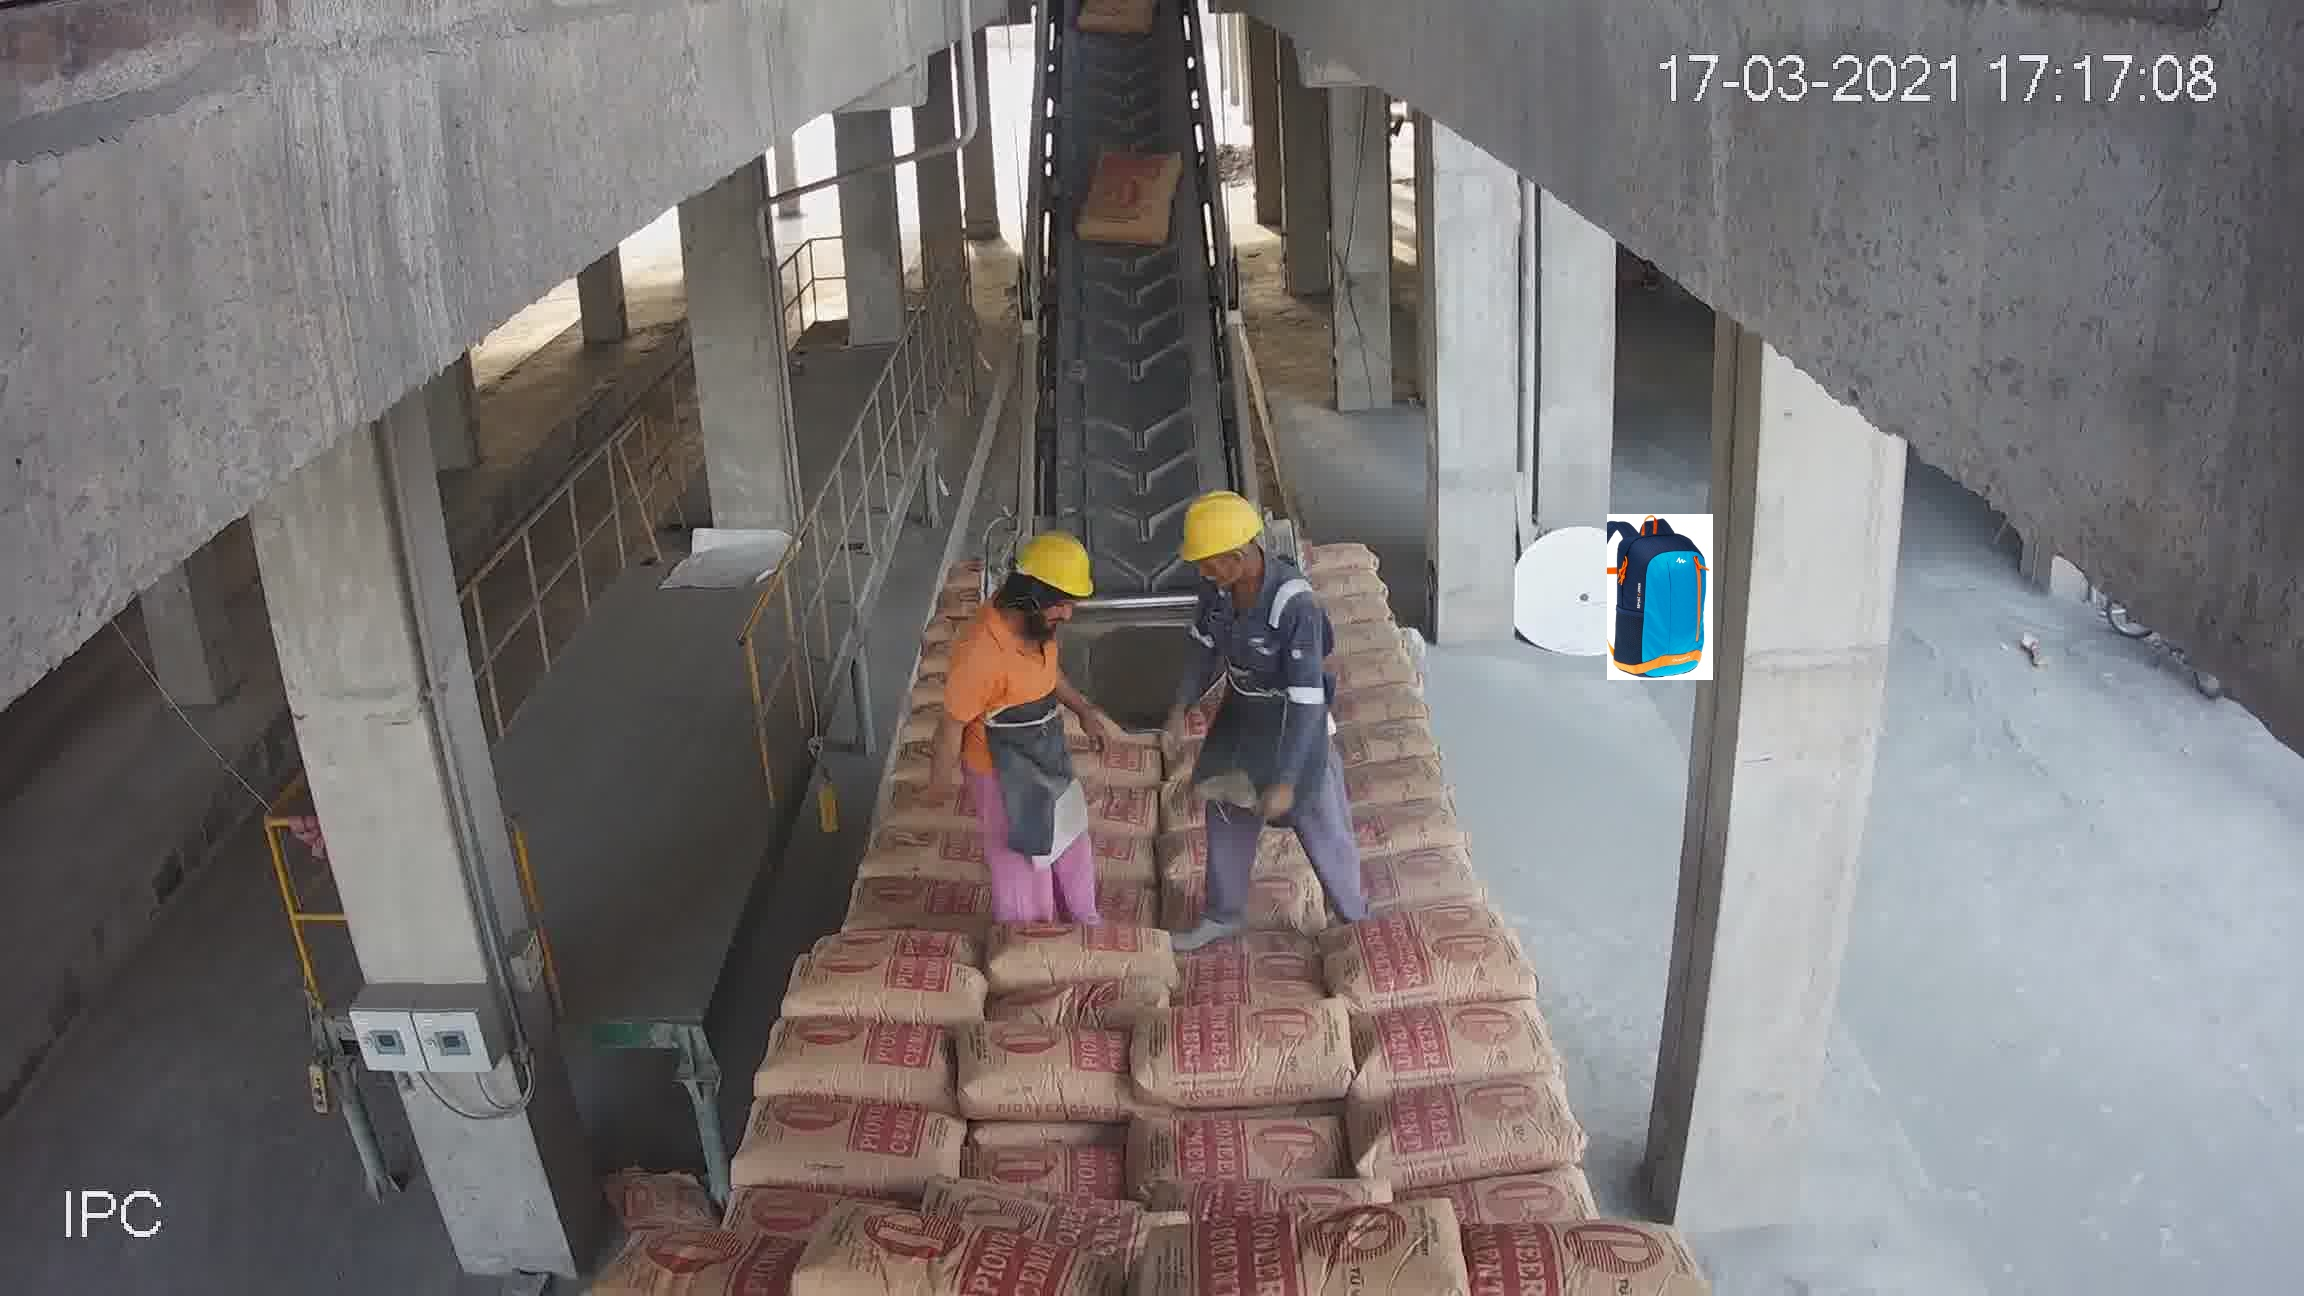bag: (1078, 152, 1184, 245)
bag_h: (1177, 1207, 1492, 1294), (793, 1207, 1106, 1294), (1139, 999, 1367, 1116), (1343, 1076, 1590, 1179), (734, 1093, 972, 1196), (1348, 986, 1552, 1103), (1437, 1207, 1684, 1296), (1389, 1138, 1595, 1237), (1127, 1105, 1350, 1192), (750, 1014, 967, 1100), (957, 1022, 1133, 1125), (1336, 921, 1524, 1014), (794, 951, 987, 1029), (986, 918, 1176, 992), (619, 1226, 817, 1296), (1176, 910, 1345, 976), (999, 956, 1165, 1022), (959, 1143, 1141, 1199), (1348, 842, 1478, 916), (853, 824, 999, 888), (809, 937, 980, 980), (1336, 744, 1454, 802), (1353, 790, 1465, 851), (855, 875, 989, 926), (1331, 709, 1449, 763), (1324, 680, 1435, 723), (1332, 650, 1419, 696), (1324, 581, 1402, 628), (1307, 560, 1393, 603), (1331, 612, 1407, 660), (1302, 532, 1378, 571)
belt: (994, 38, 1242, 673)
